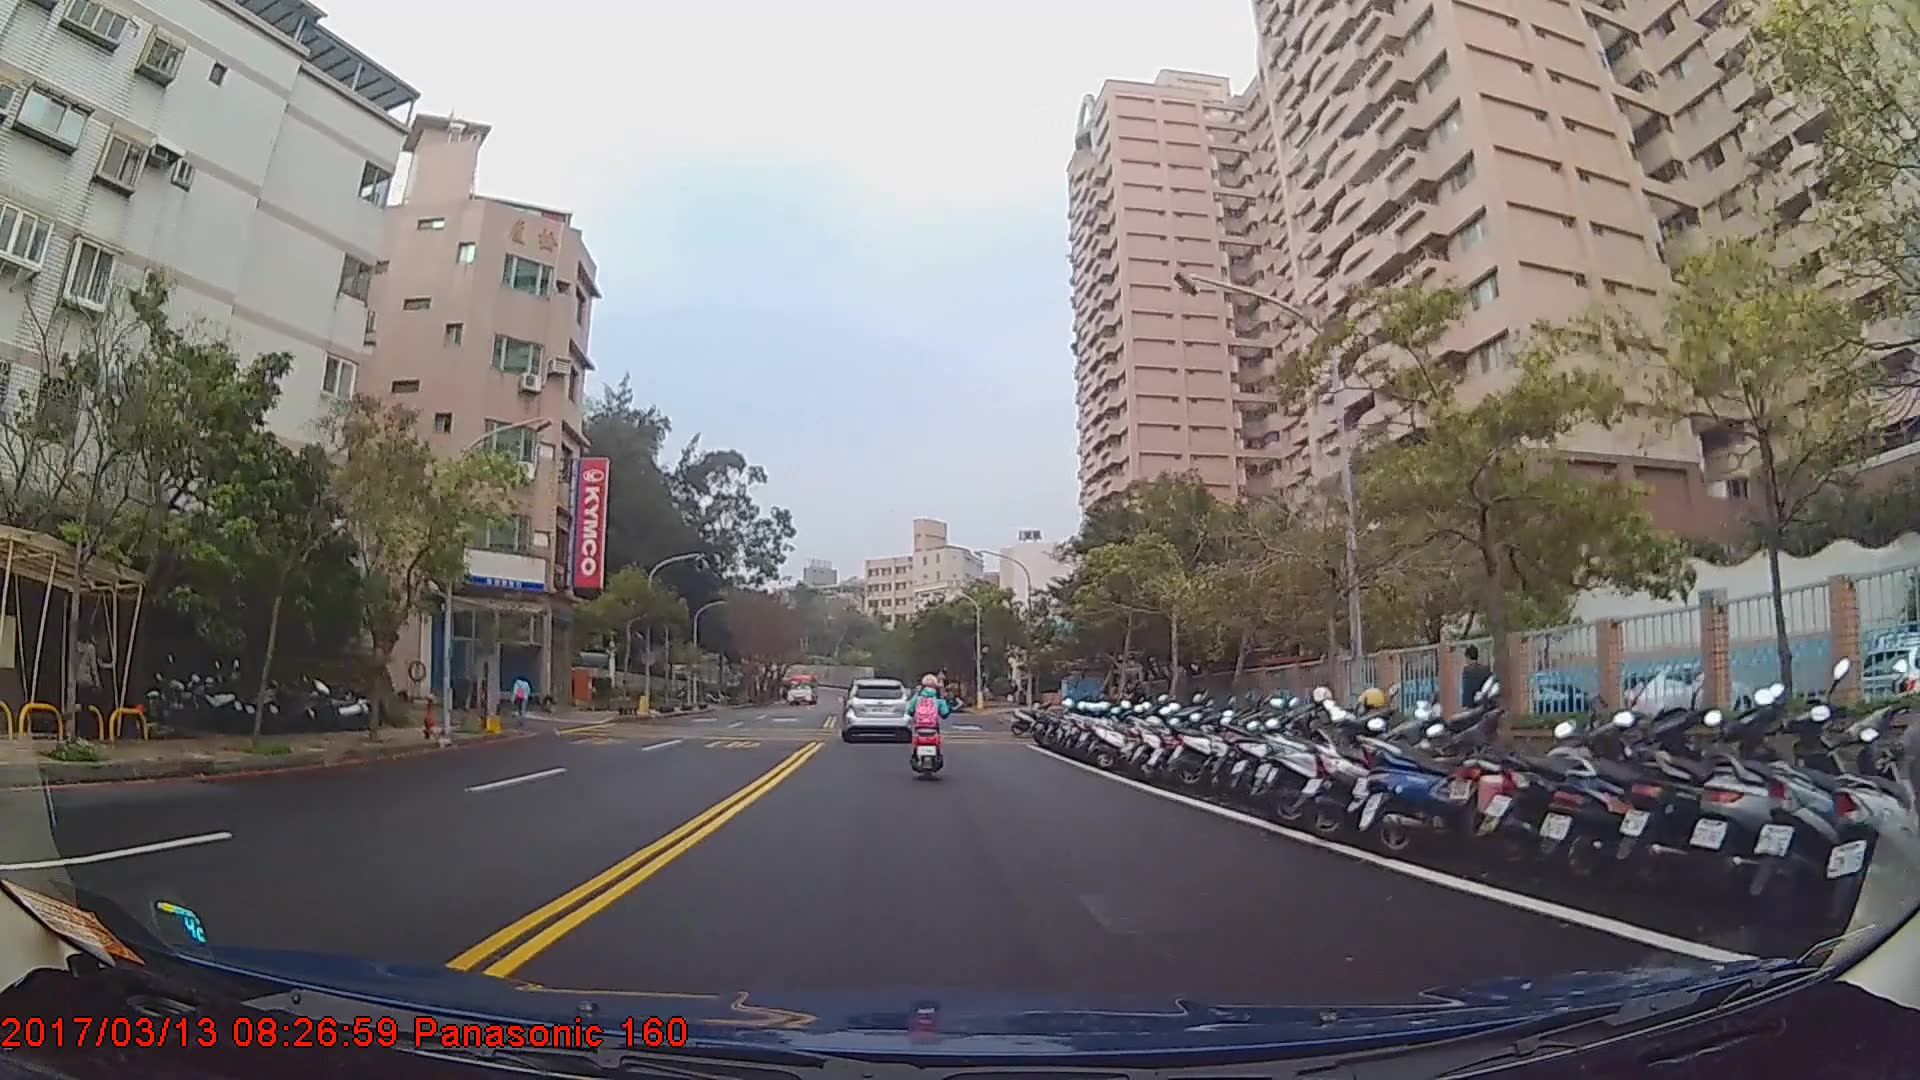pedestrian: (1459, 643, 1504, 769), (64, 624, 104, 750), (511, 668, 532, 726)
rider: (907, 672, 953, 784)
vehicle: (841, 674, 912, 740), (783, 670, 819, 707)
